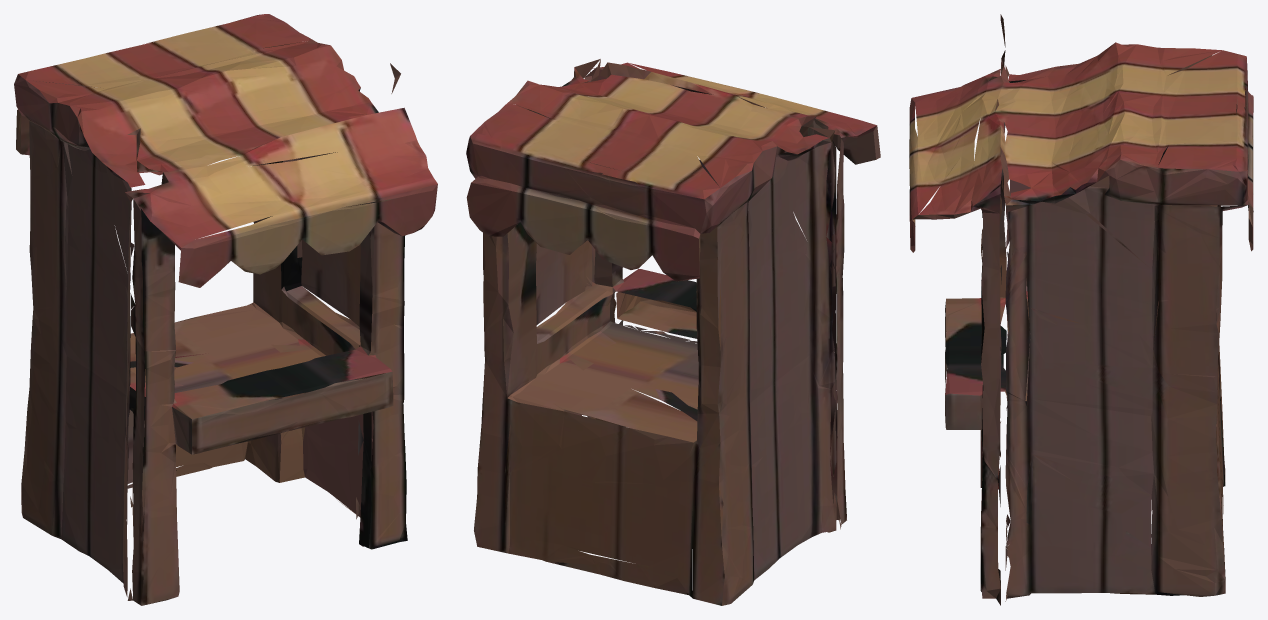
The model's file is kassa.glb.
3 renders of one model, left to right at view 1: azimuth 30°, elevation 25°; view 2: azimuth 150°, elevation 25°; view 3: azimuth 270°, elevation 25°, orthographic. The views are drawn at different scales.
Parts seen in each view (by area): view 1: geometry_0; view 2: geometry_0; view 3: geometry_0.
Part boxes in pixels (x1,y1,x2,y2): geometry_0: (14, 14, 437, 605); geometry_0: (466, 59, 880, 605); geometry_0: (909, 14, 1253, 605).
Size of the model in its own units: 1.17 by 1.9 by 1.27.
Materials: 1 (1 with a texture image).
